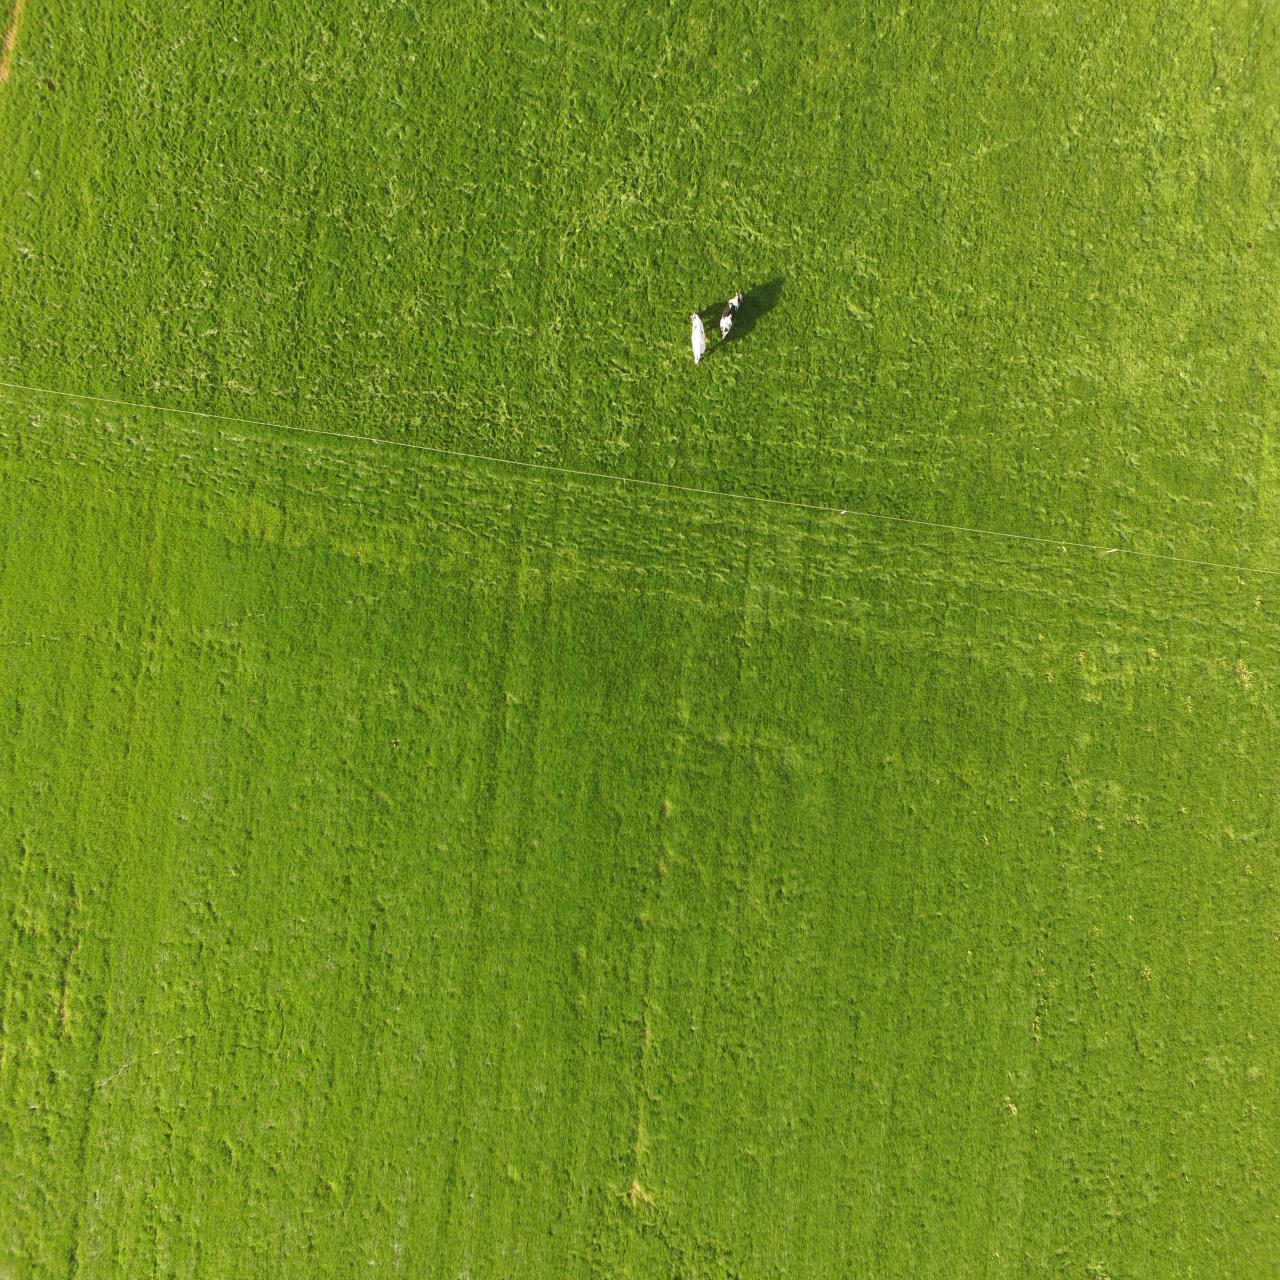cow: (719, 291, 744, 340), (689, 311, 707, 365)
